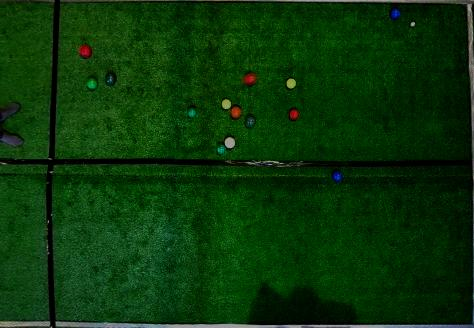blue: (332, 171, 343, 182), (391, 8, 401, 19)
green: (86, 77, 98, 90), (105, 73, 116, 86), (245, 116, 256, 129), (187, 107, 197, 118), (216, 144, 226, 155)
red: (243, 73, 257, 85), (230, 106, 242, 119), (224, 136, 236, 149), (80, 45, 92, 58), (289, 108, 299, 121)
vline: (1, 0, 60, 327), (463, 0, 473, 328)
white: (410, 21, 416, 27)
yellow: (221, 98, 232, 109), (286, 78, 296, 89)
